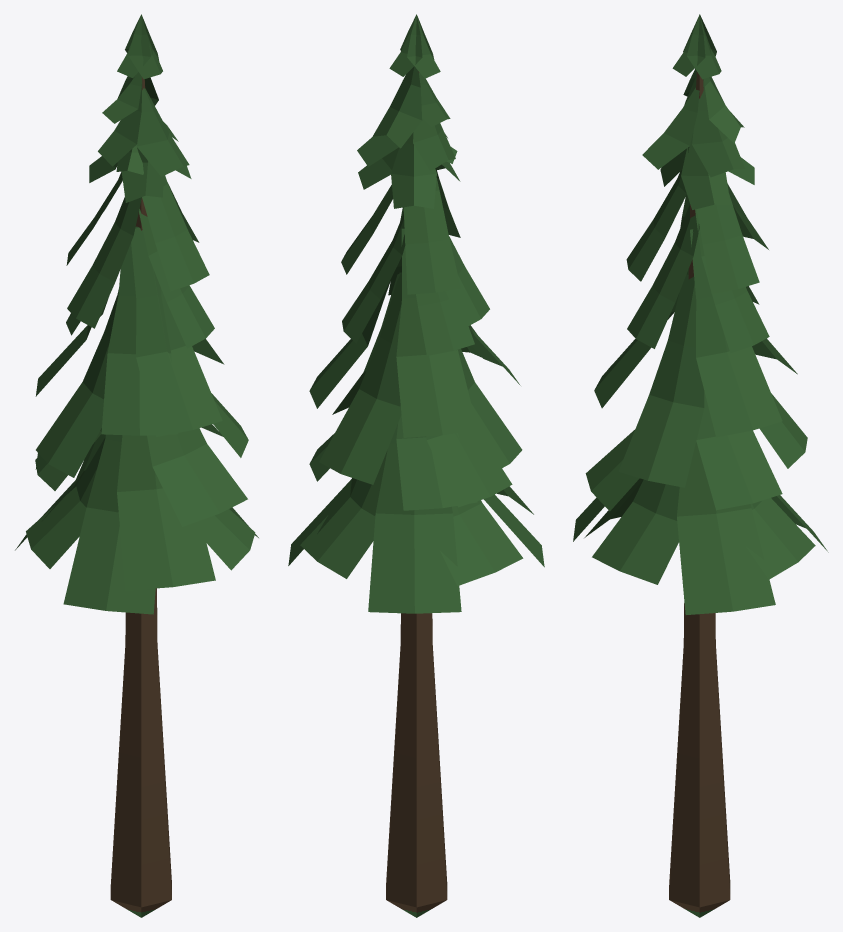
File: Pinetree_tall.fbx
3 views of the same model, side by side, from view 1: azimuth 30°, elevation 25°; view 2: azimuth 150°, elevation 25°; view 3: azimuth 270°, elevation 25° (orthographic).
Parts seen in each view (by area): view 1: Pinetree_tall; view 2: Pinetree_tall; view 3: Pinetree_tall.
Boxes of the visible parts, x1,y1,x2,y2 form: Pinetree_tall: [15, 14, 258, 917]; Pinetree_tall: [288, 14, 544, 917]; Pinetree_tall: [573, 14, 828, 917].
Bounding box in the file's own units: 3.66 × 14.74 × 3.78.
1 material, 1 textured.
